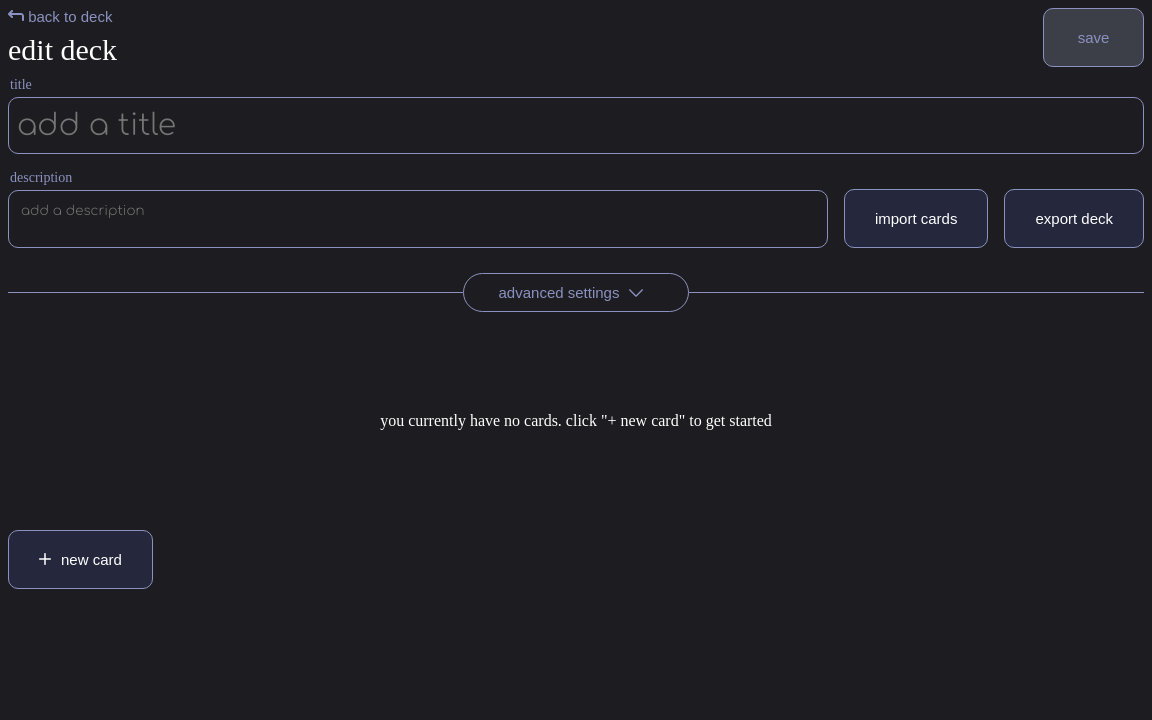
Scenario: DeckEditor › should add a new card on click
Click the button "new card" at (80, 560), box [8,530,153,589]
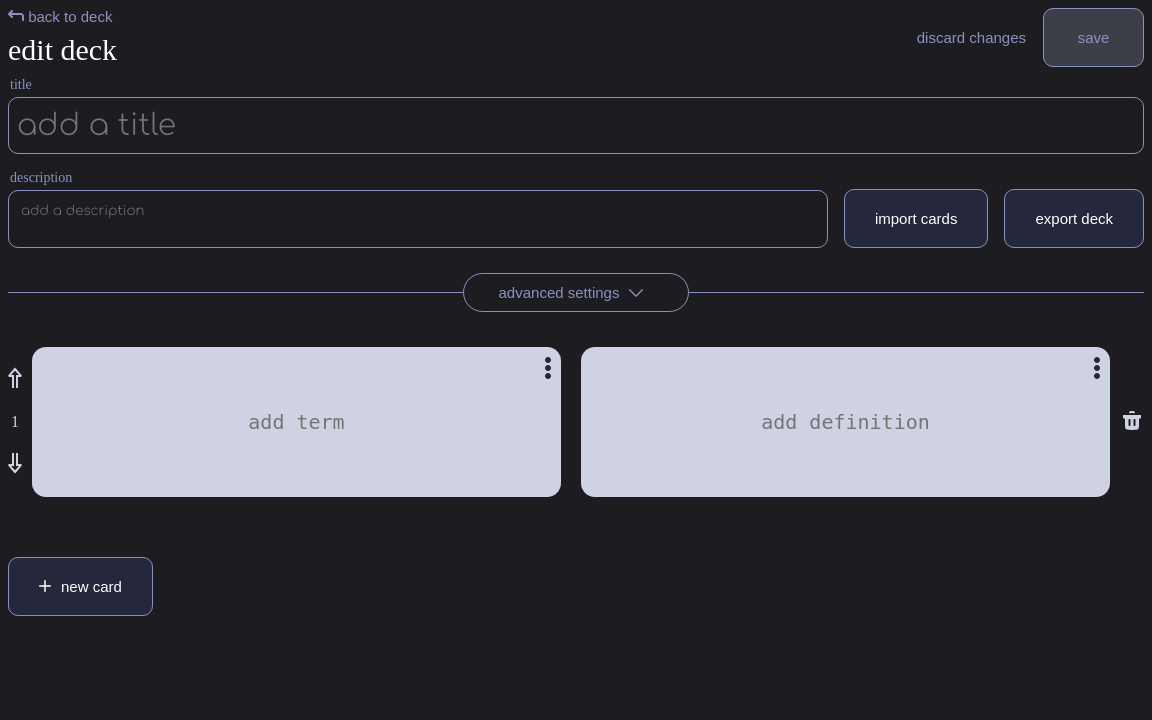
Check: the text box with placeholder "add term" is shown, box [32,395,561,449]
Check: the text box with placeholder "add definition" is shown, box [581,395,1110,449]
